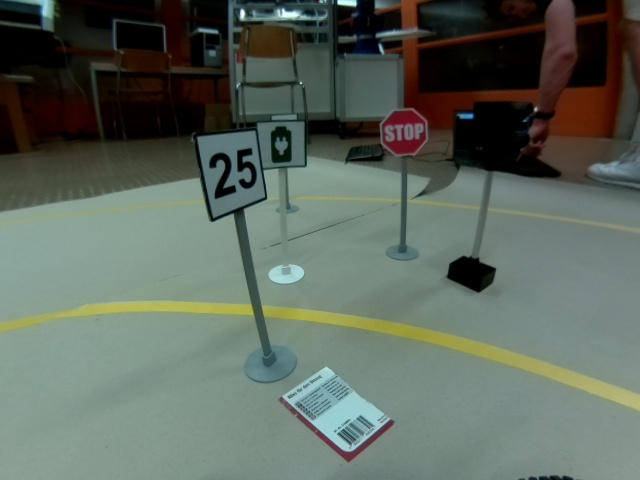battery: (253, 119, 308, 171)
speed25: (190, 125, 271, 223)
stop: (378, 108, 430, 158)
traffic light: (470, 99, 533, 169)
